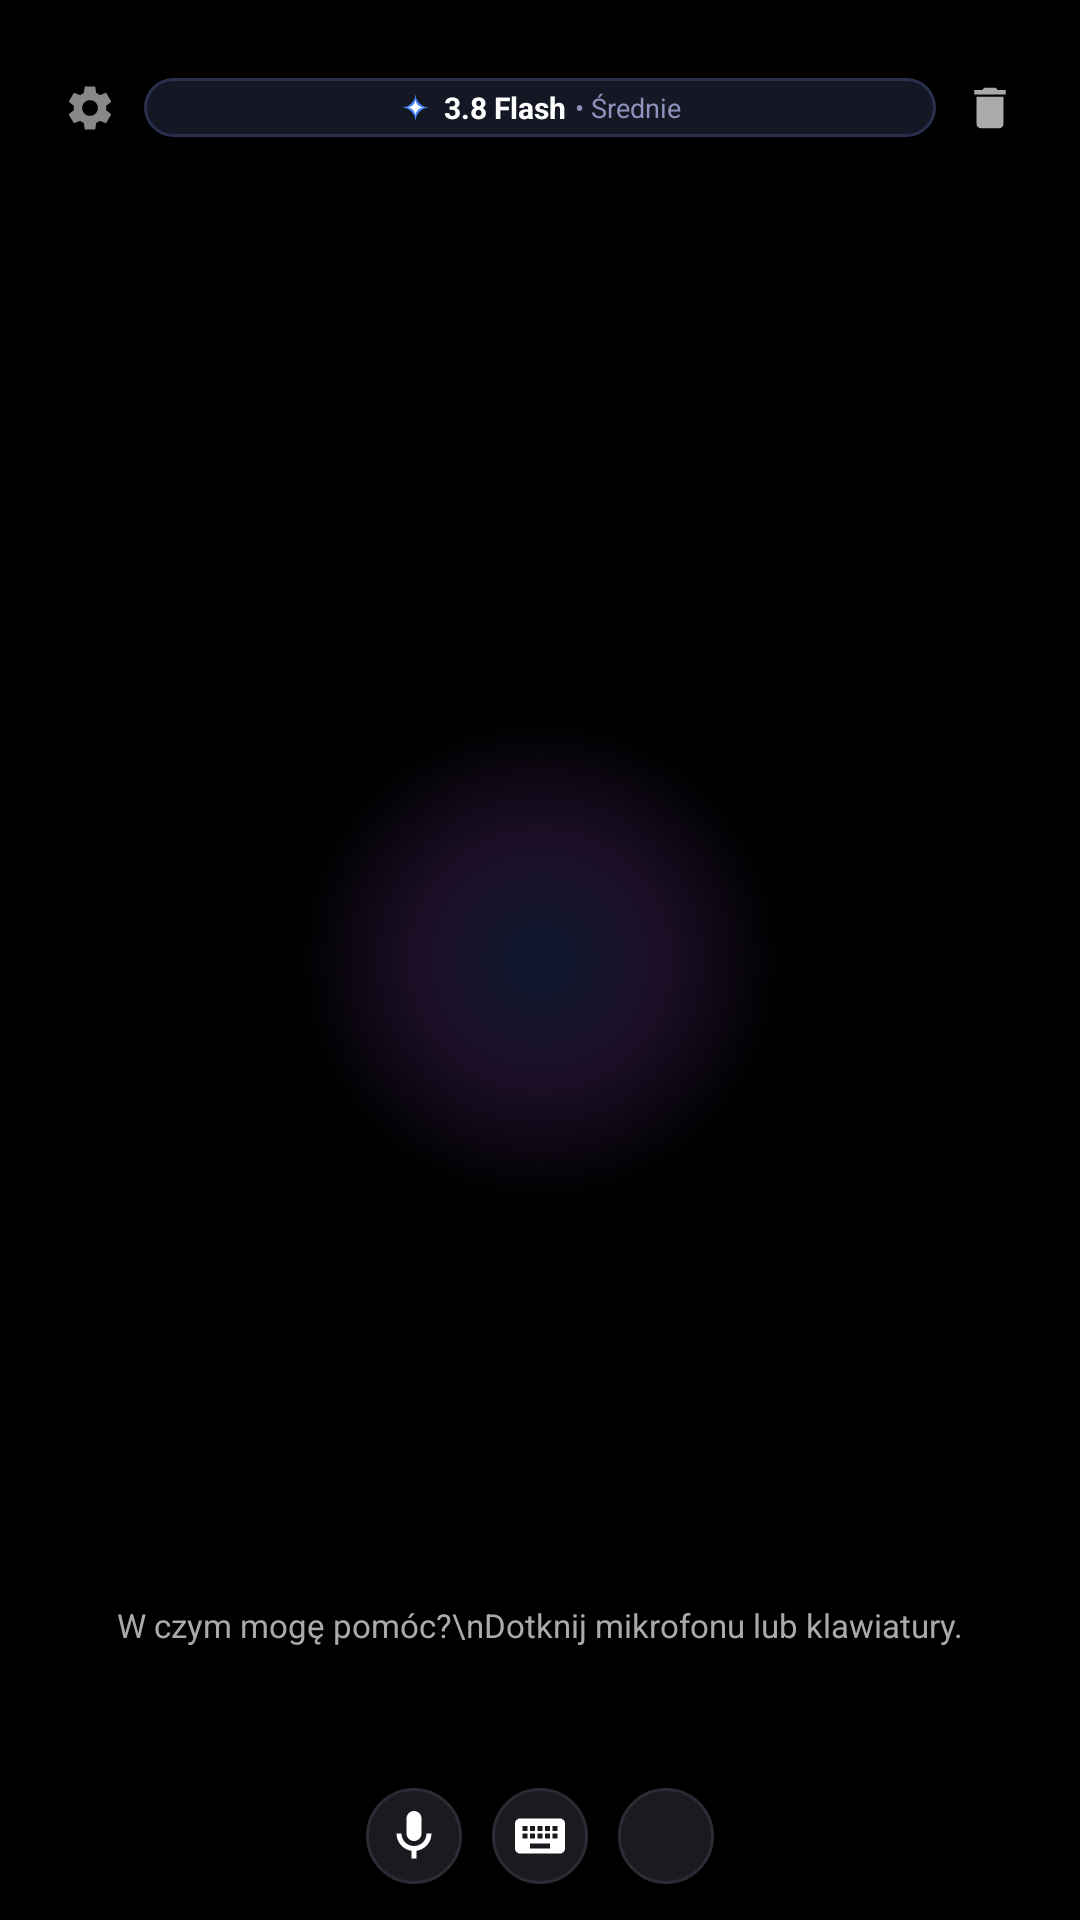

Screen size 1080 x 1920. Icon name, then its center in pixels as (x,y):
keyboard: (540,1836)
mic: (414,1836)
settings: (90,108)
trash: (990,108)
